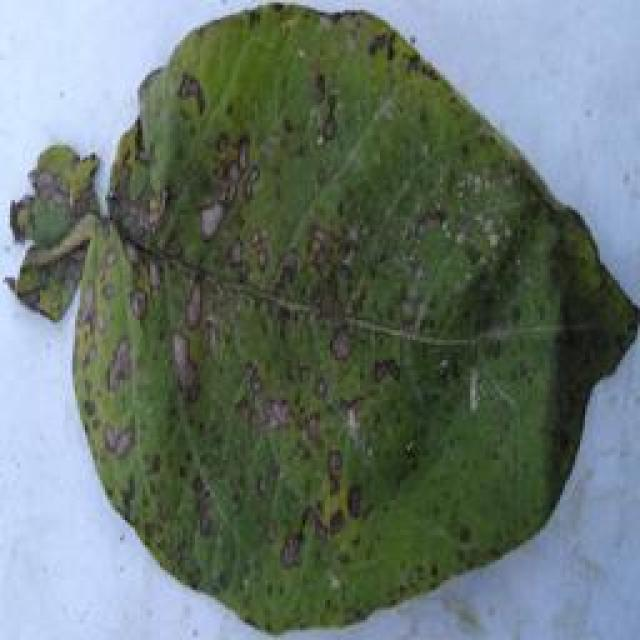Potato_Early_Blight: (7, 9, 636, 636)
